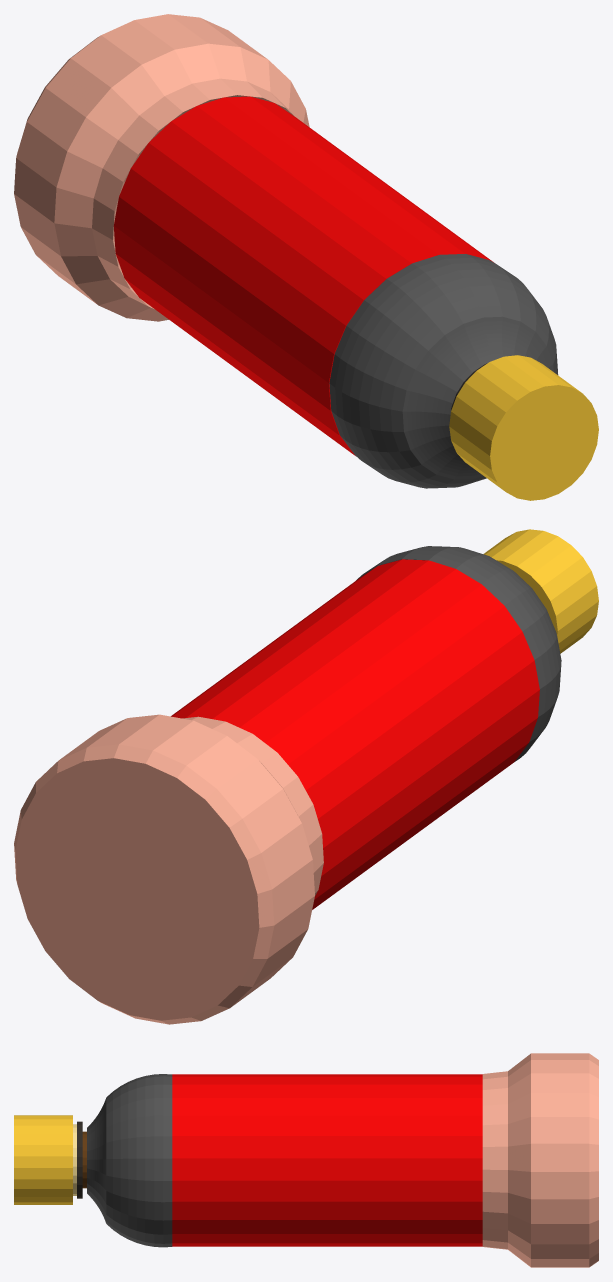
The picture shows the model from 3 angles, top to bottom: view 1: azimuth 30°, elevation 25°; view 2: azimuth 150°, elevation 25°; view 3: azimuth 270°, elevation 25°; orthographic projection. The views are drawn at different scales.
Visible parts, largest first — view 1: bottle; view 2: bottle; view 3: bottle.
Boxes of the visible parts, box(x1,y1,x2,y2) form: bottle: box(14, 14, 598, 500); bottle: box(14, 529, 598, 1024); bottle: box(14, 1053, 598, 1267).
Size of the model in its own units: 57.58 by 57.58 by 157.
